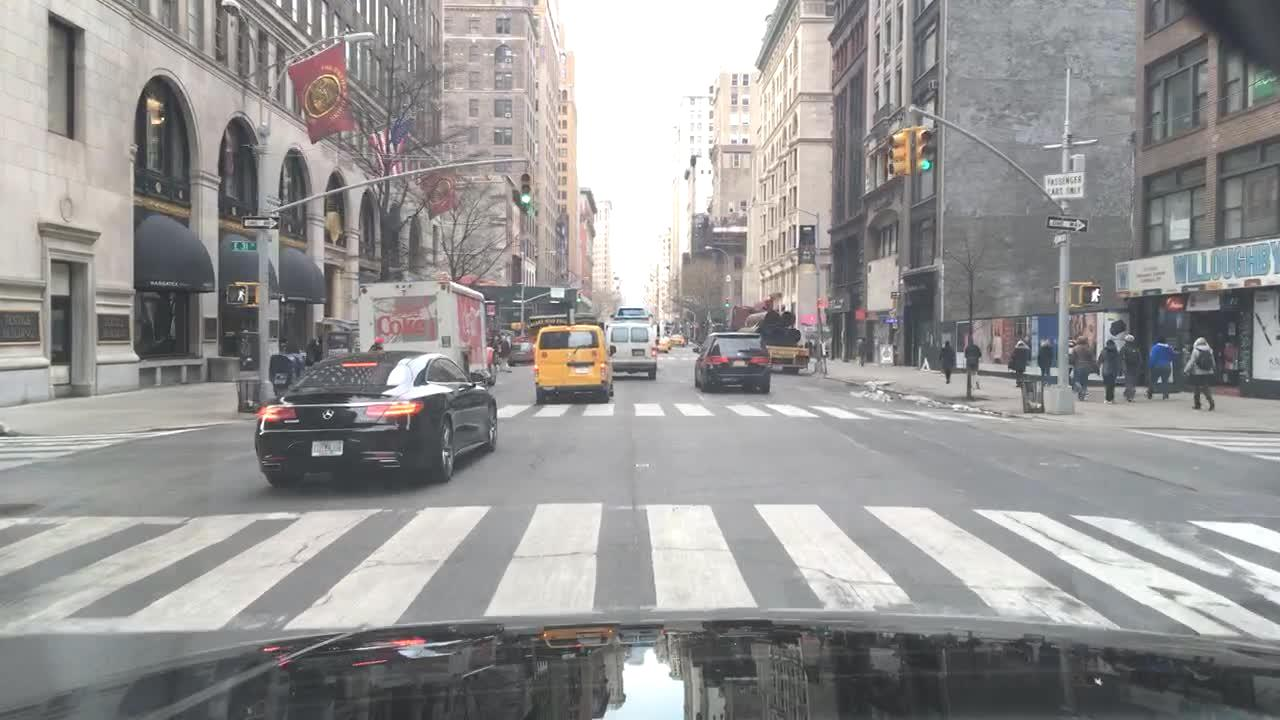Mercedes: (313, 405, 342, 426)
